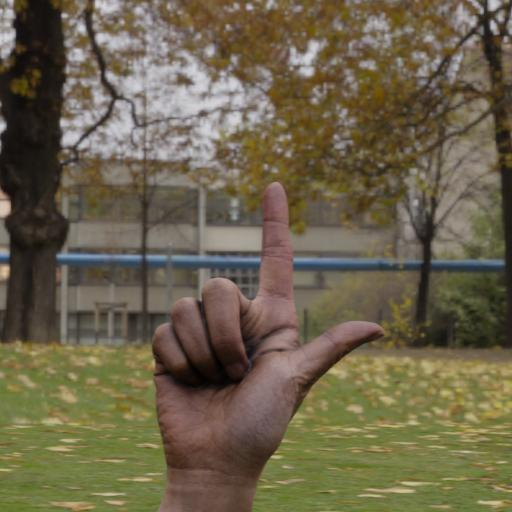L: (134, 170, 396, 512)
